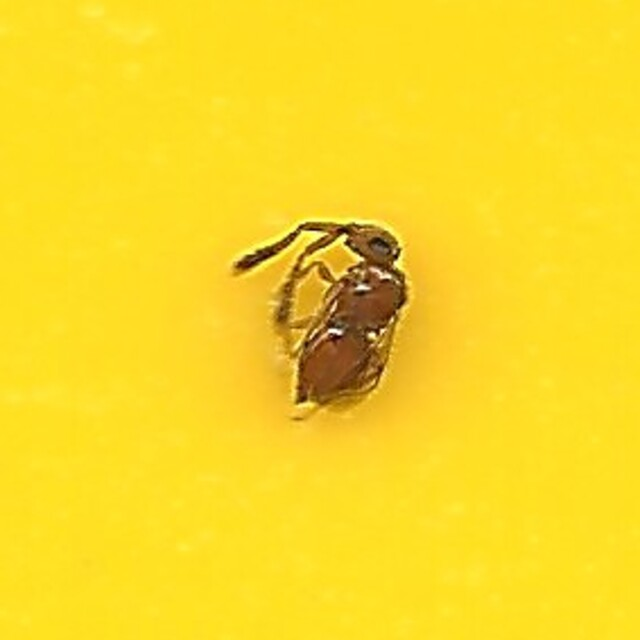Hymenoptera: (226, 218, 414, 422)
